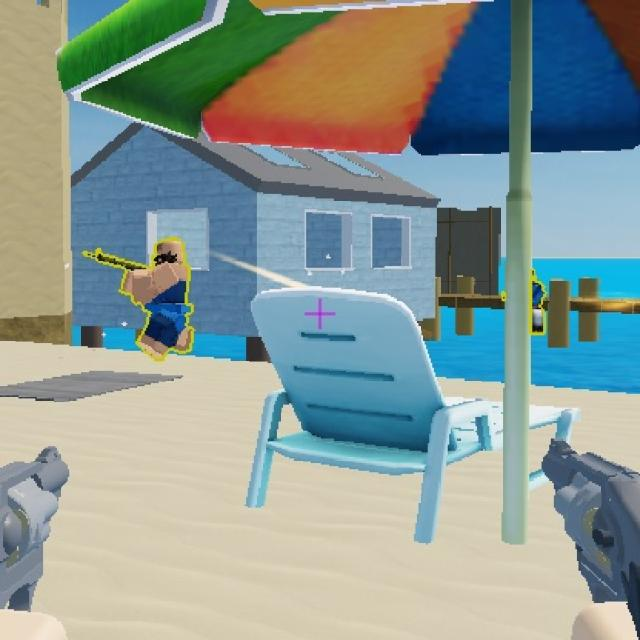player: (117, 236, 196, 364)
